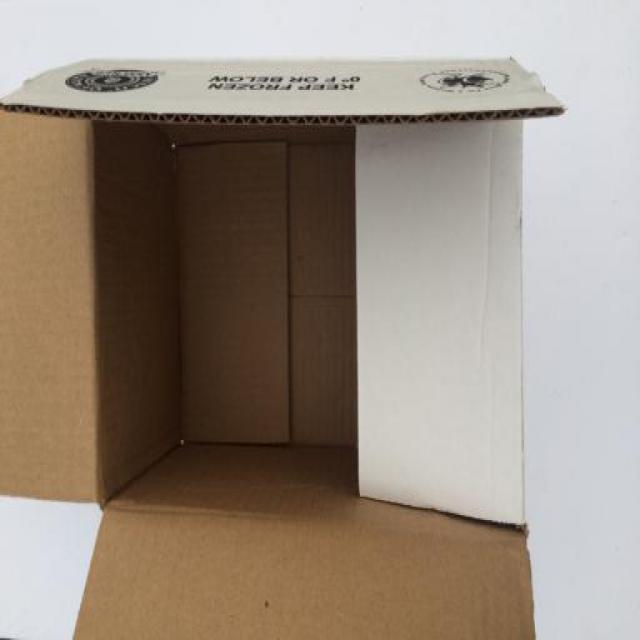cardboard: (3, 42, 574, 640)
